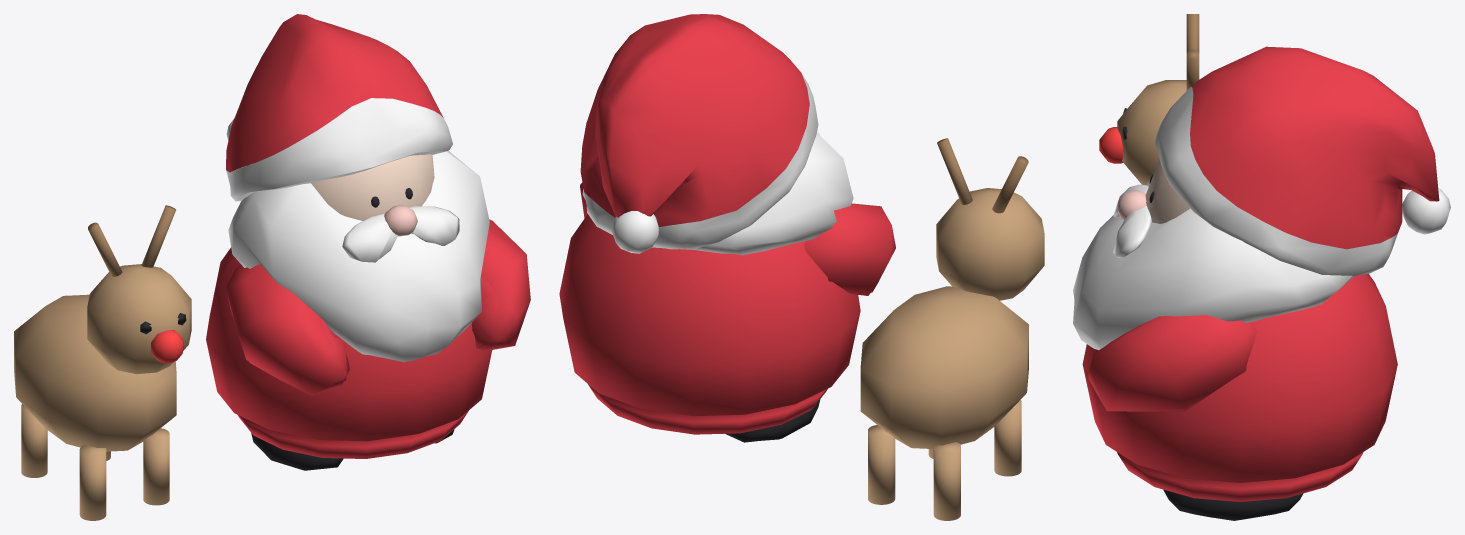
The model's file is rudolph.glb.
The picture shows the model from 3 angles, left to right: view 1: azimuth 30°, elevation 25°; view 2: azimuth 150°, elevation 25°; view 3: azimuth 270°, elevation 25°; orthographic projection. The views are drawn at different scales.
Visible parts, largest first — view 1: rudolph_red, rudolph_white, rudolph_deer, rudolph_skin, rudolph_black, rudolph_brown, rudolph_rednose, rudolph_nose; view 2: rudolph_red, rudolph_deer, rudolph_white, rudolph_brown, rudolph_black; view 3: rudolph_red, rudolph_white, rudolph_deer, rudolph_black, rudolph_skin, rudolph_brown, rudolph_rednose, rudolph_nose.
Part boxes in pixels (<box>): rudolph_red: <box>206,14,530,458</box>; rudolph_white: <box>226,98,489,361</box>; rudolph_deer: <box>14,264,191,520</box>; rudolph_skin: <box>311,154,434,220</box>; rudolph_black: <box>140,188,454,470</box>; rudolph_brown: <box>88,205,175,276</box>; rudolph_rednose: <box>151,330,183,363</box>; rudolph_nose: <box>384,205,417,236</box>; rudolph_red: <box>559,14,895,434</box>; rudolph_deer: <box>860,188,1044,520</box>; rudolph_white: <box>582,59,853,255</box>; rudolph_brown: <box>937,138,1028,213</box>; rudolph_black: <box>725,399,820,442</box>; rudolph_red: <box>1082,46,1439,501</box>; rudolph_white: <box>1073,87,1450,350</box>; rudolph_deer: <box>1117,80,1186,184</box>; rudolph_black: <box>1122,108,1303,520</box>; rudolph_skin: <box>1145,122,1248,223</box>; rudolph_brown: <box>1186,14,1199,90</box>; rudolph_rednose: <box>1099,127,1123,163</box>; rudolph_nose: <box>1117,189,1146,220</box>.
Size of the model in its own units: 3.52 by 2.98 by 2.4.
